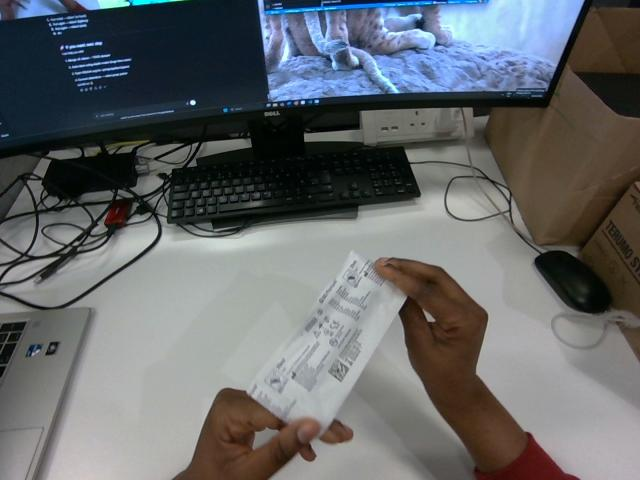syringe: (247, 252, 405, 430)
